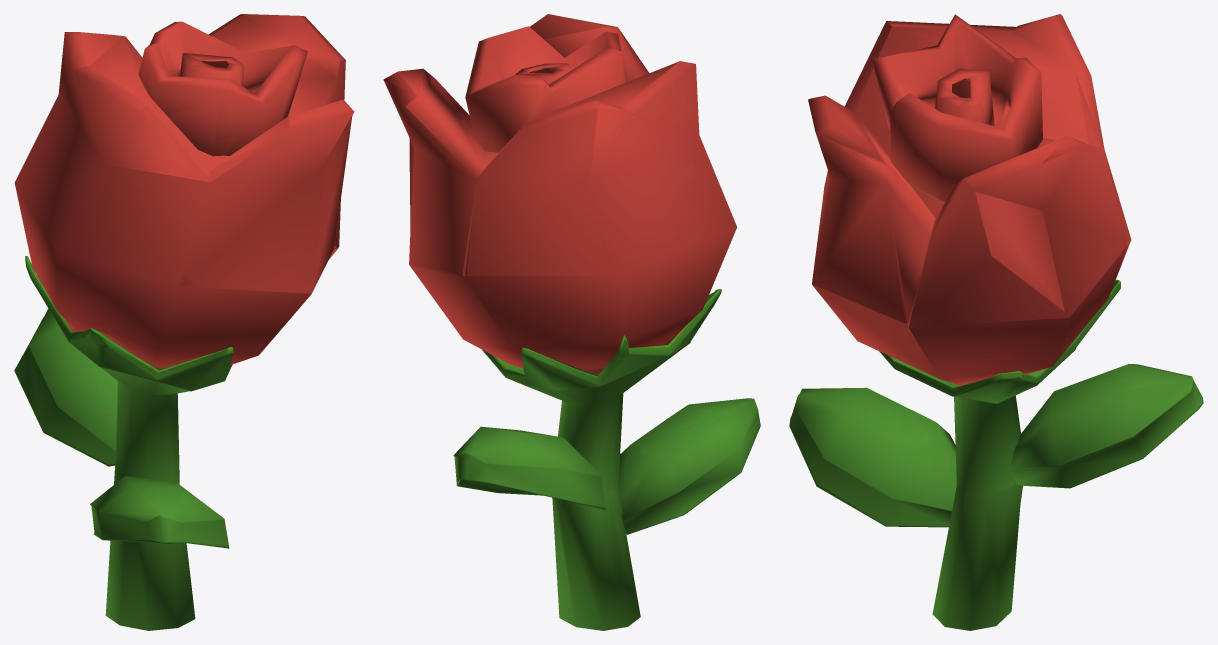
3 renders of one model, left to right at view 1: azimuth 30°, elevation 25°; view 2: azimuth 150°, elevation 25°; view 3: azimuth 270°, elevation 25°, orthographic. The views are drawn at different scales.
Visible parts, largest first — view 1: tripo_node_81175918-4c0c-4b2f-8b44-d47cb05c0b95; view 2: tripo_node_81175918-4c0c-4b2f-8b44-d47cb05c0b95; view 3: tripo_node_81175918-4c0c-4b2f-8b44-d47cb05c0b95.
Boxes of the visible parts, box(x1,y1,x2,y2) form: tripo_node_81175918-4c0c-4b2f-8b44-d47cb05c0b95: box(14, 14, 354, 630); tripo_node_81175918-4c0c-4b2f-8b44-d47cb05c0b95: box(383, 14, 760, 630); tripo_node_81175918-4c0c-4b2f-8b44-d47cb05c0b95: box(789, 14, 1203, 630).
Size of the model in its own units: 0.1134 by 0.2 by 0.127.
1 material, 1 textured.
